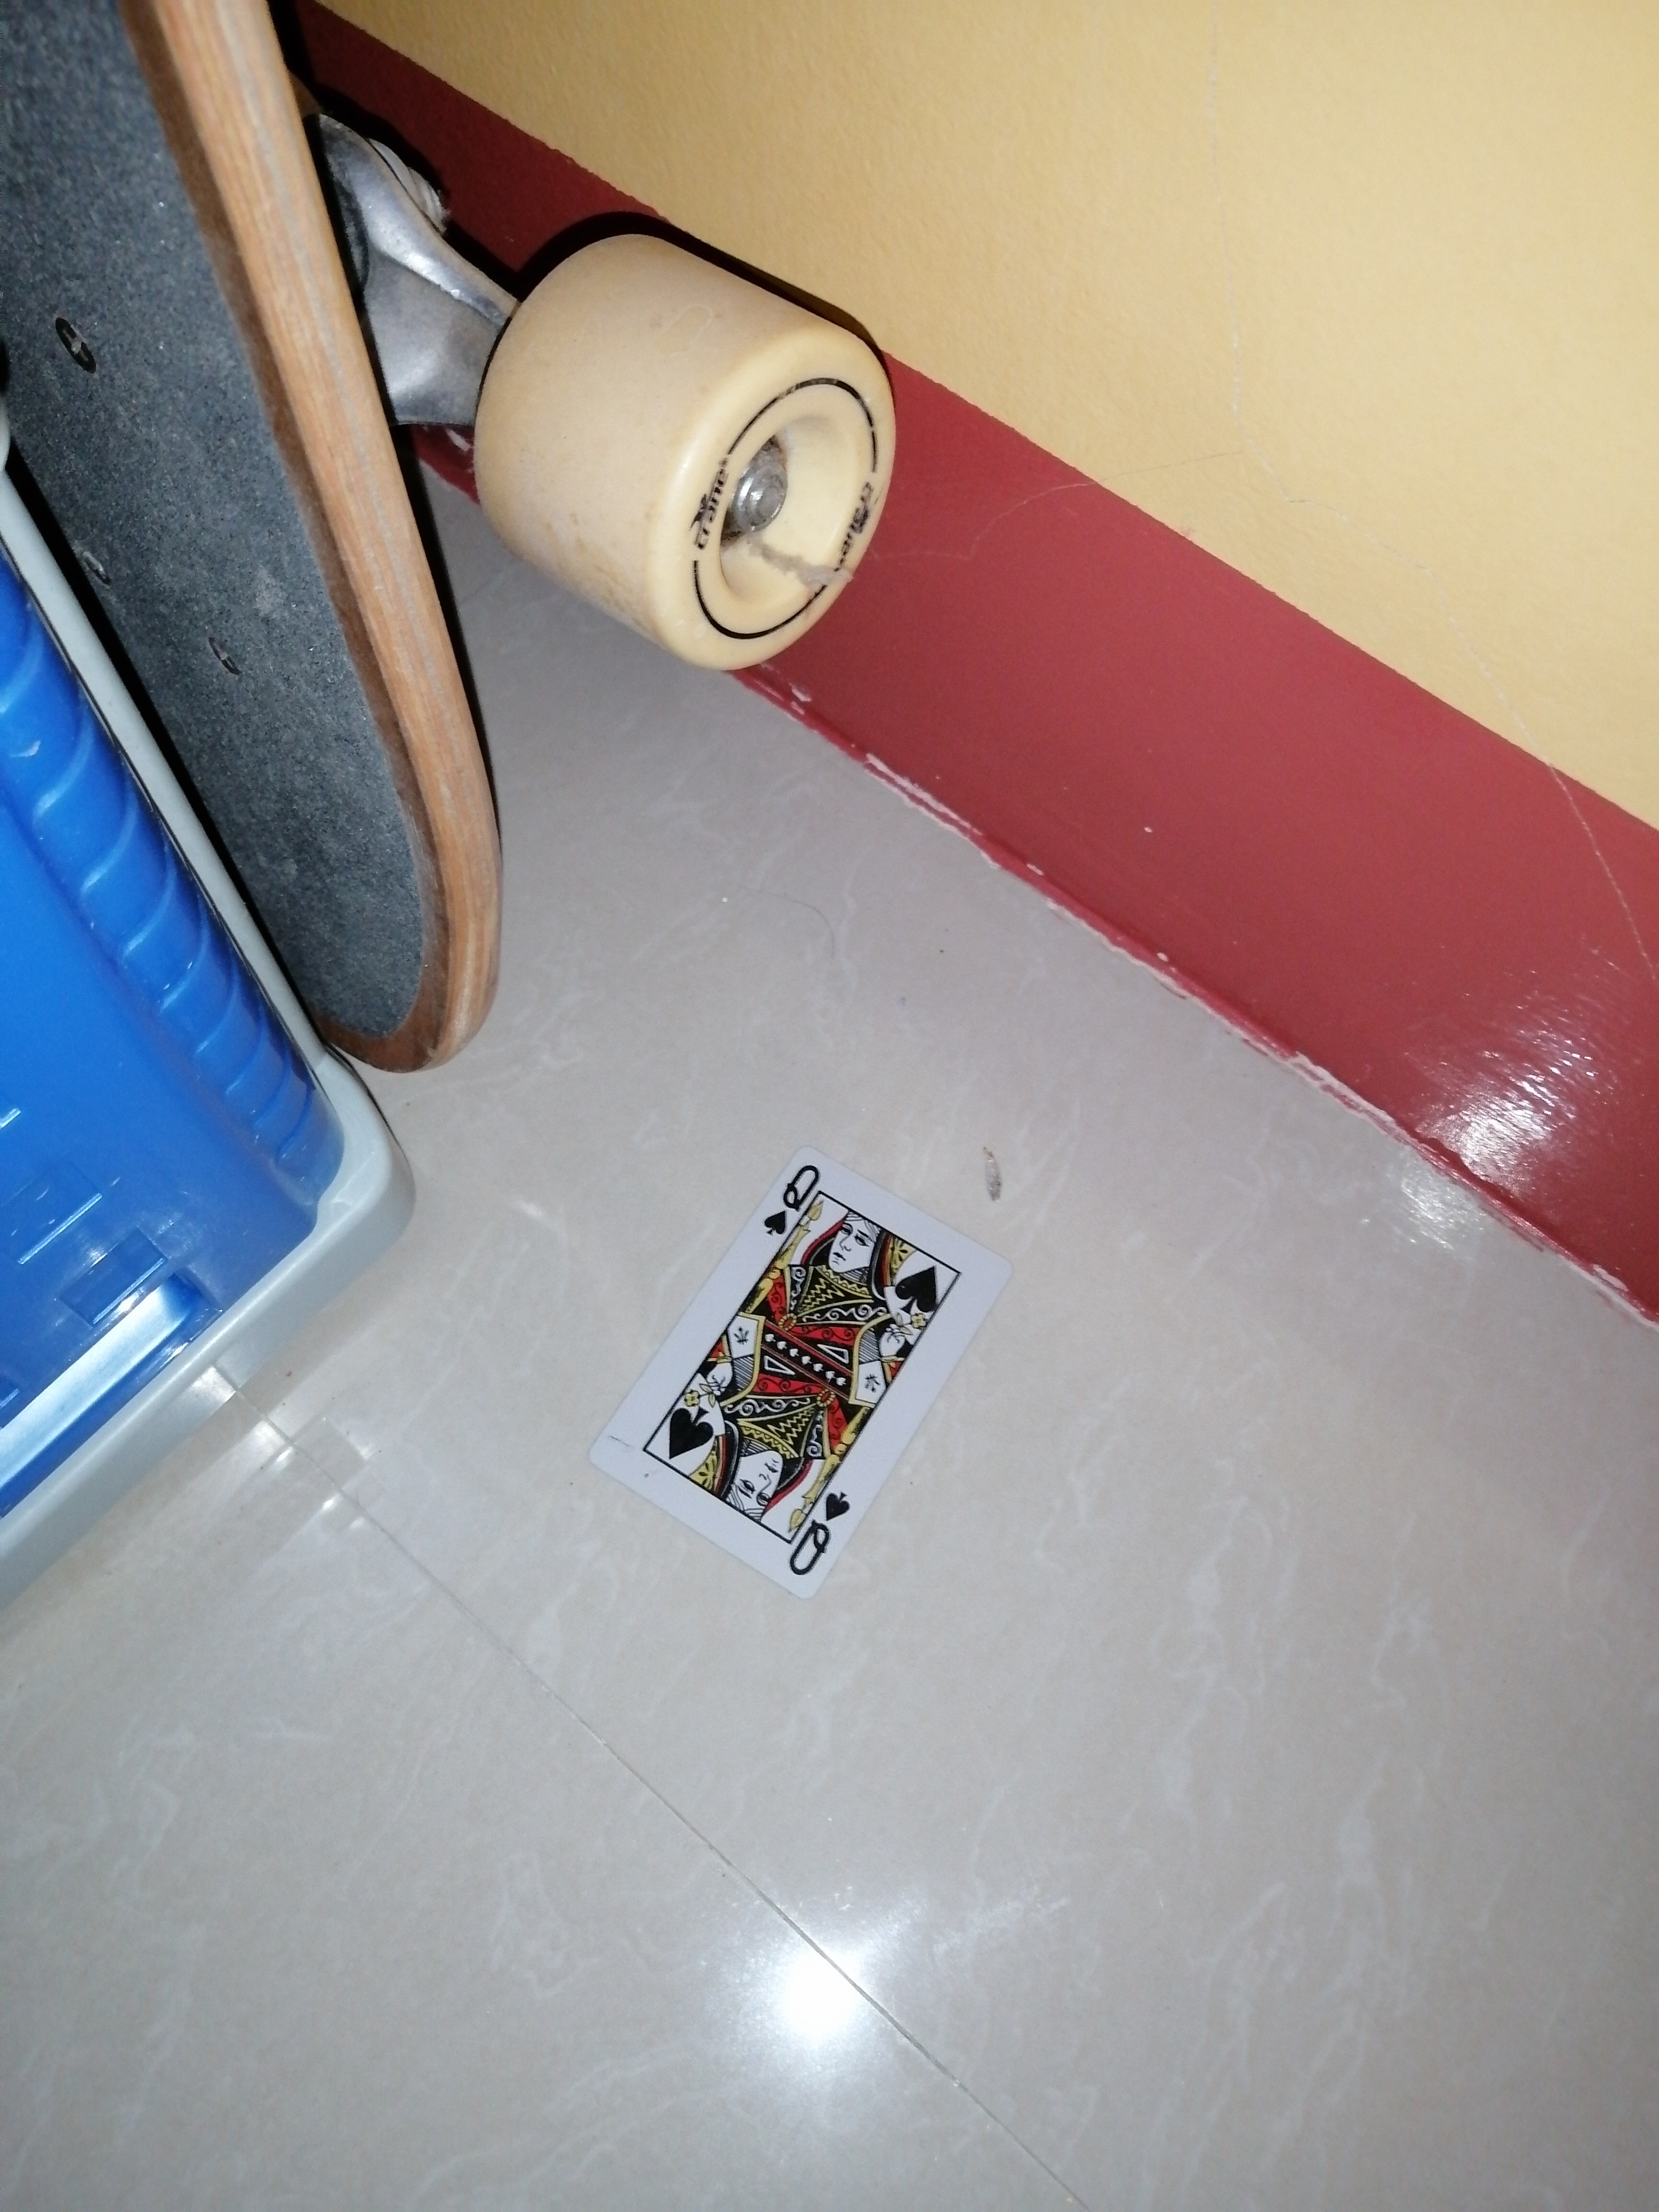queen: (587, 1144, 997, 1602)
